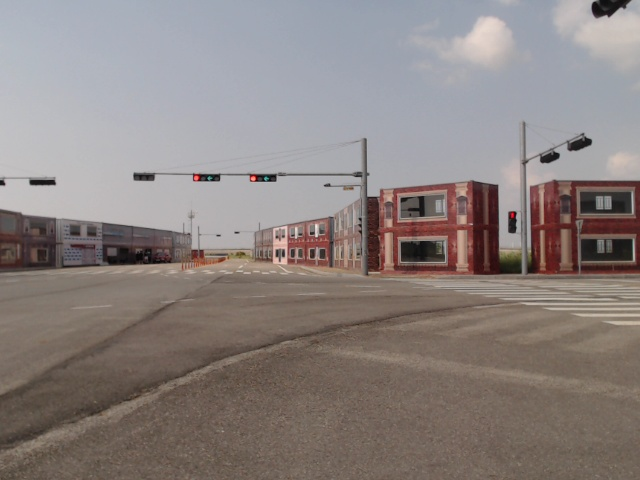left_green_4: (193, 174, 219, 181), (251, 175, 276, 182)
